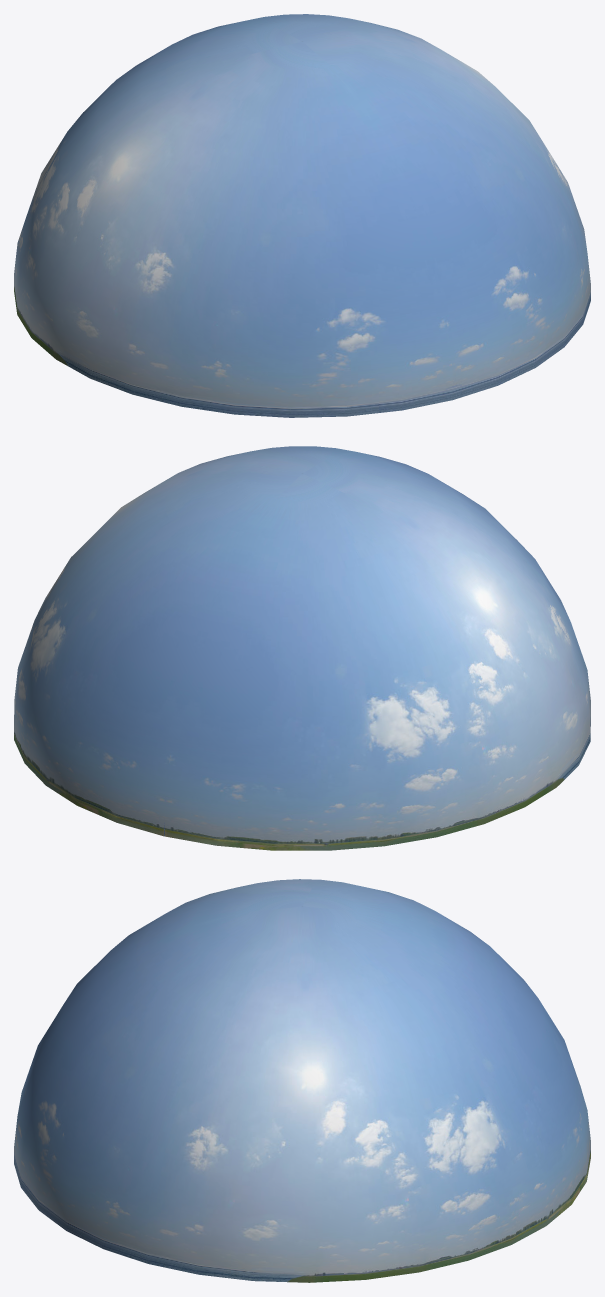
Rendered from SKY2.FBX.
The picture shows the model from 3 angles, top to bottom: view 1: azimuth 30°, elevation 25°; view 2: azimuth 150°, elevation 25°; view 3: azimuth 270°, elevation 25°; orthographic projection.
Parts seen in each view (by area): view 1: sky1; view 2: sky1; view 3: sky1.
Part boxes in pixels (bbox=[...]): sky1: bbox=[14, 14, 590, 417]; sky1: bbox=[14, 446, 590, 850]; sky1: bbox=[14, 879, 590, 1282].
Bounding box in the file's own units: 205448 × 99919 × 205448.
1 material, 1 textured.
